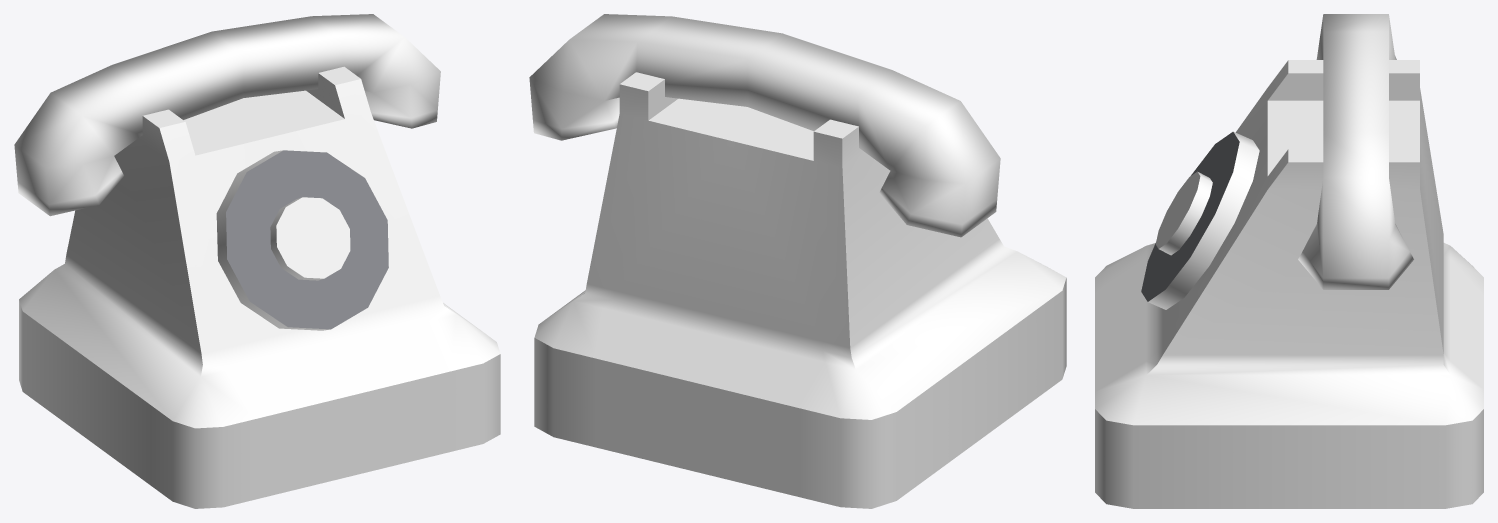
File: phone.fbx
3 renders of one model, left to right at view 1: azimuth 30°, elevation 25°; view 2: azimuth 150°, elevation 25°; view 3: azimuth 270°, elevation 25°, orthographic. The views are drawn at different scales.
Visible parts, largest first — view 1: phone; view 2: phone; view 3: phone.
Boxes of the visible parts, left/top/right/bottom form: phone: left=14, top=14, right=500, bottom=508; phone: left=529, top=14, right=1066, bottom=508; phone: left=1095, top=14, right=1483, bottom=508.
Size of the model in its own units: 0.4488 by 0.3699 by 0.3684.
